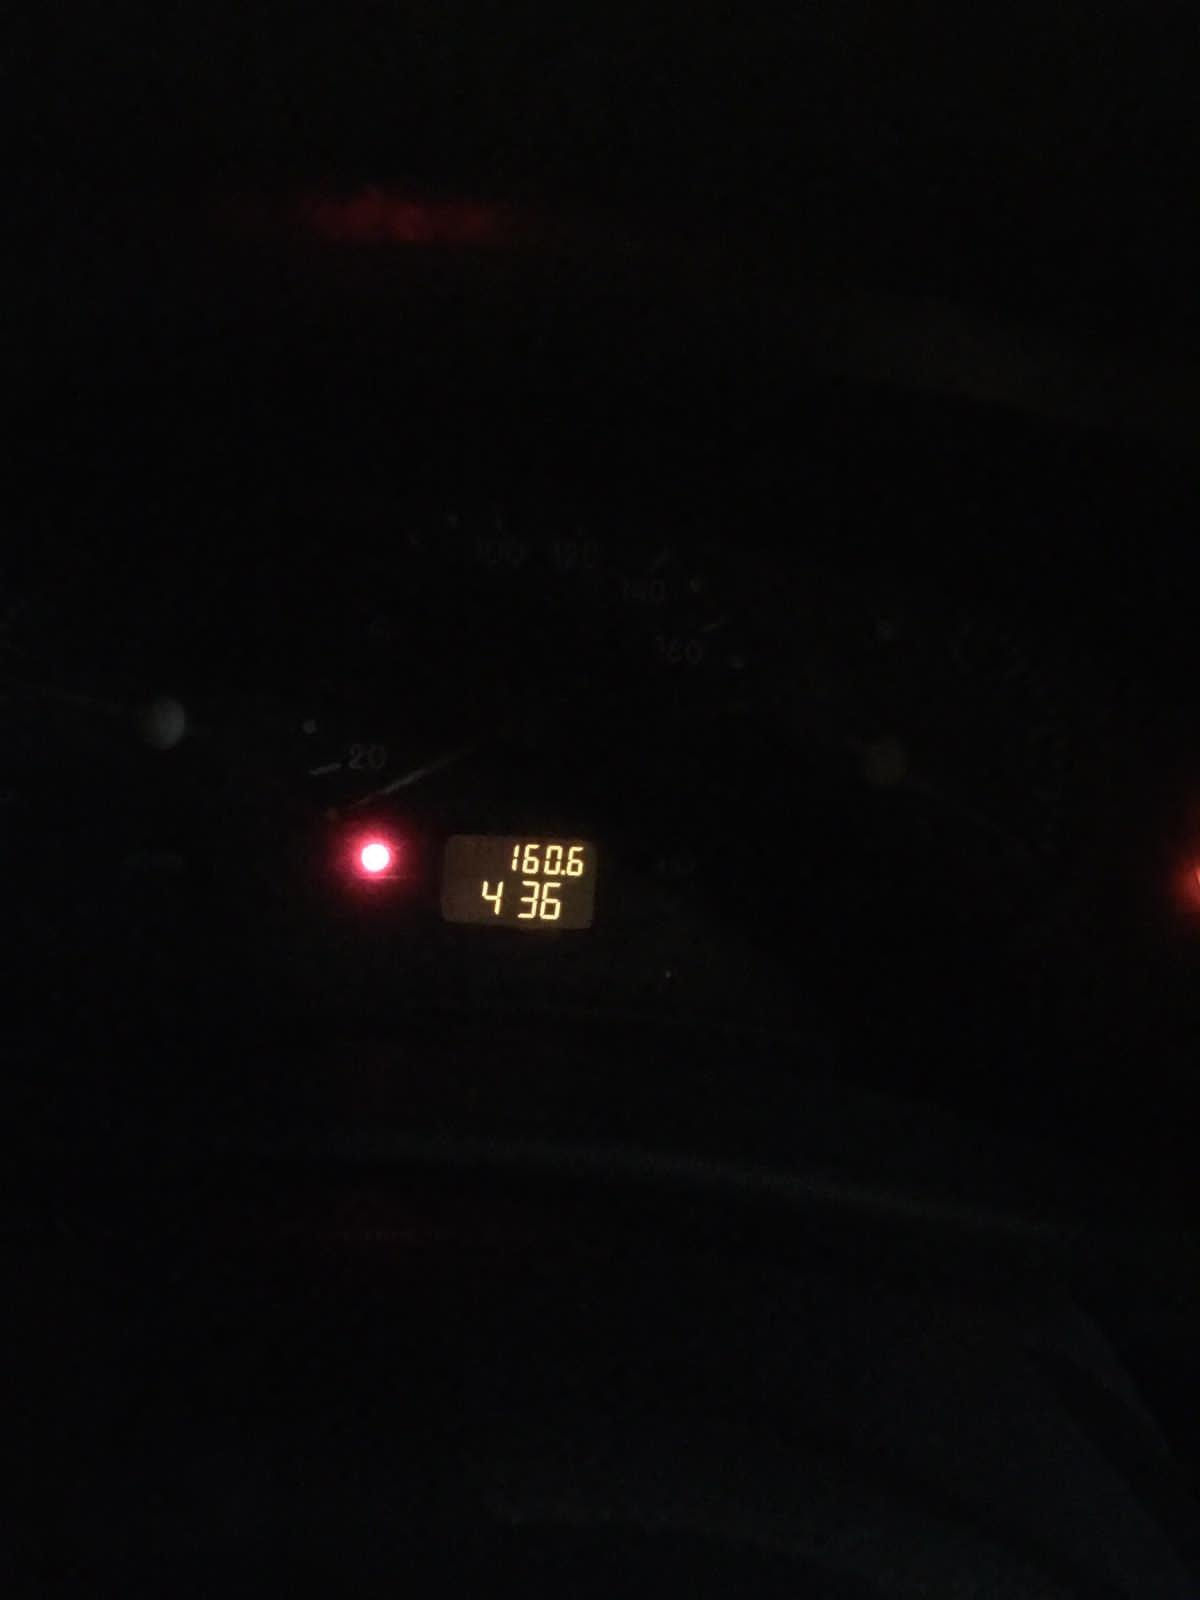,: (558, 868, 566, 877)
0: (543, 844, 563, 876)
1: (511, 843, 521, 872)
3: (516, 879, 539, 918)
4: (480, 879, 505, 916)
6: (538, 881, 562, 920), (521, 843, 539, 874), (566, 845, 584, 877)
odometer: (437, 831, 600, 932)
